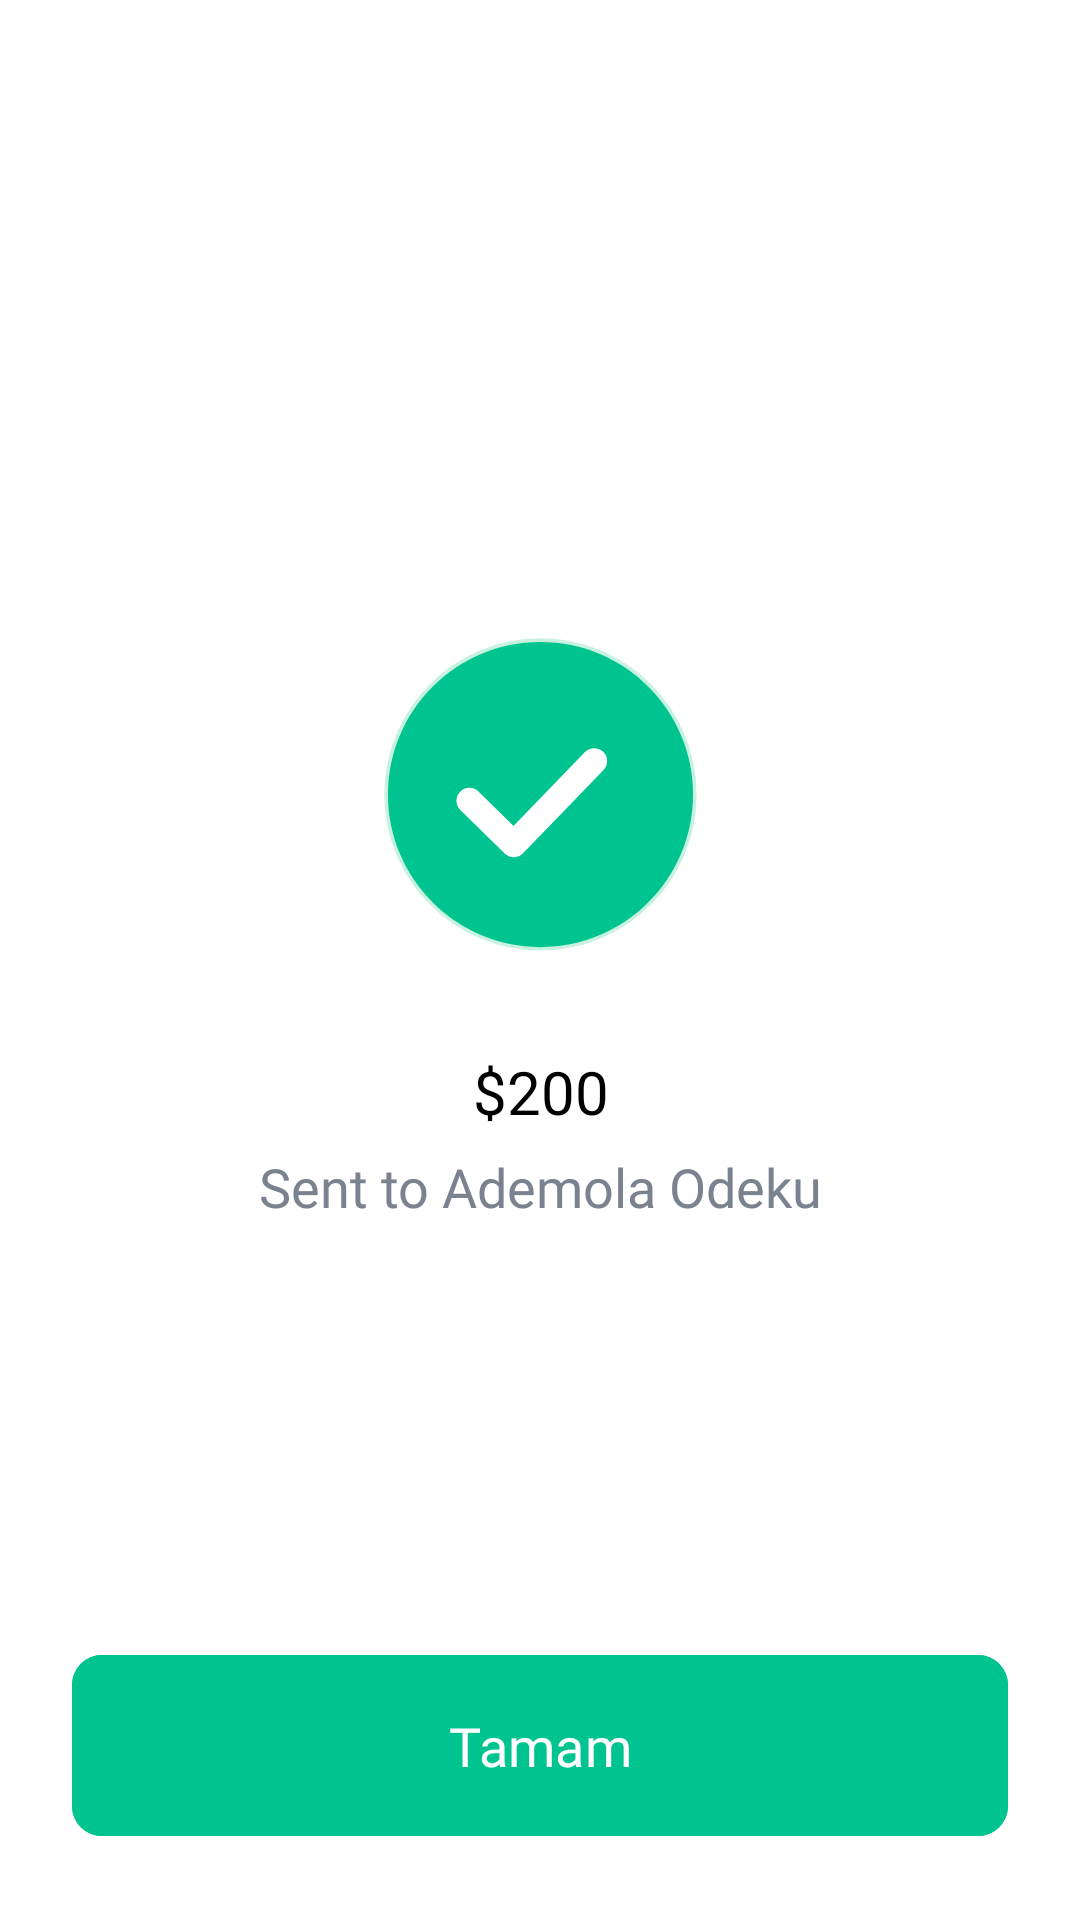

Screen size 1080*1920. Icon name, then its center in pixels as (x=x, y=y):
success: (x=540, y=794)
